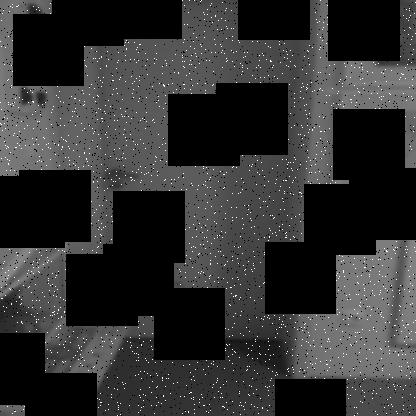Porte: (58, 0, 337, 381)
